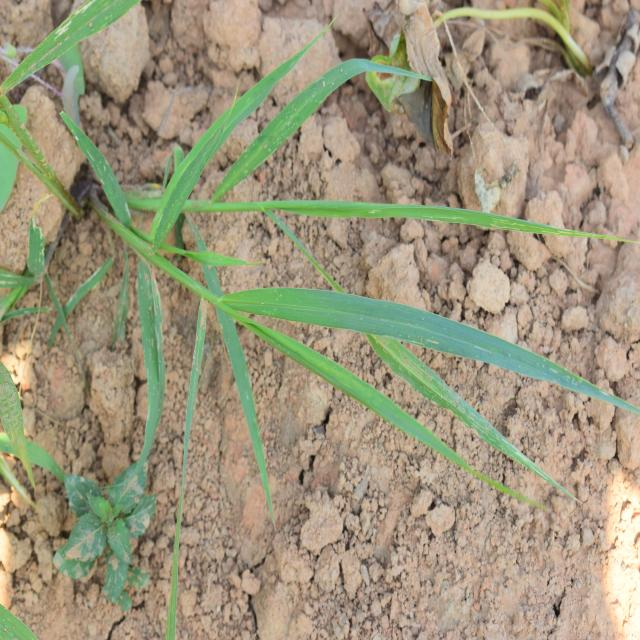green_foxtail: (130, 76, 558, 512)
